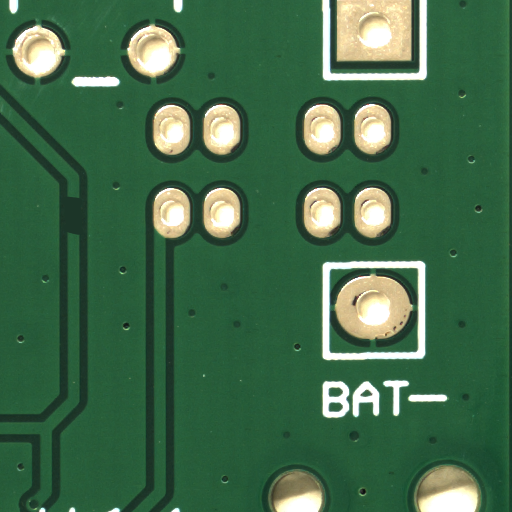Open_circuit: (72, 216, 88, 255)
